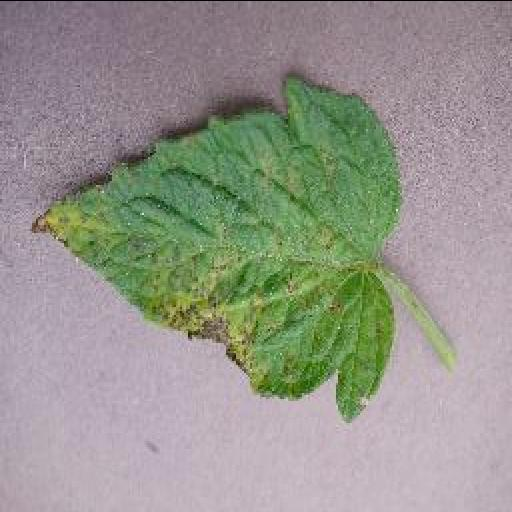disease_tomato: (30, 73, 400, 421)
